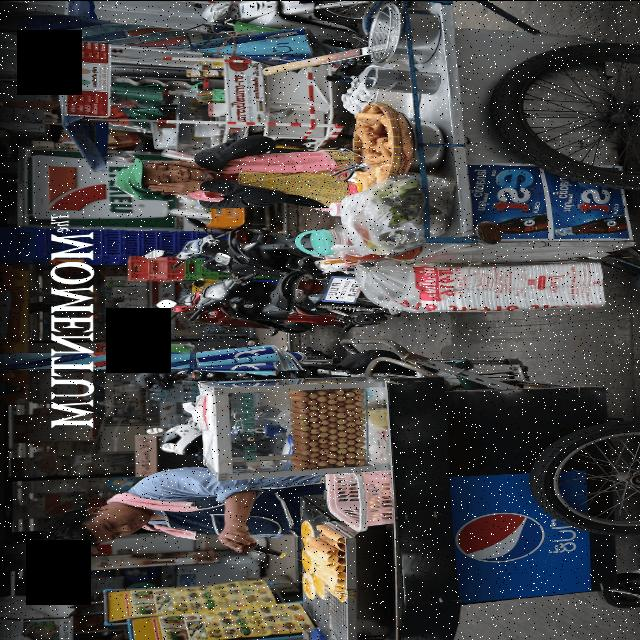food-booth: (200, 349, 640, 640), (264, 0, 640, 312)
